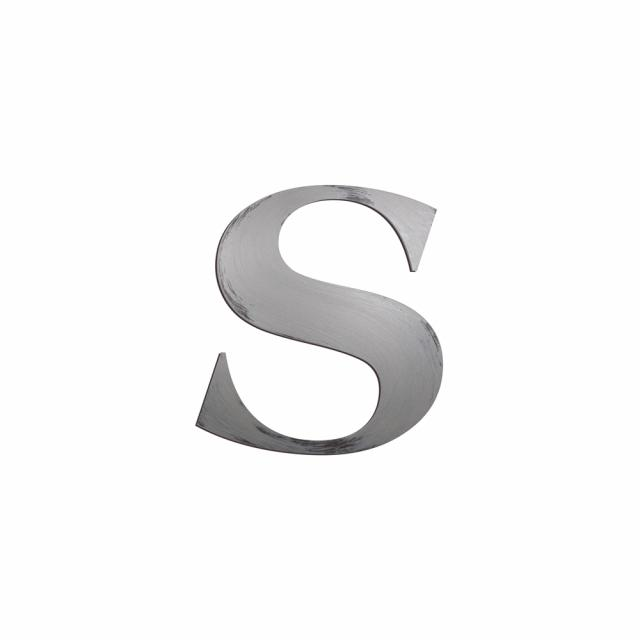S: (166, 140, 471, 503)
